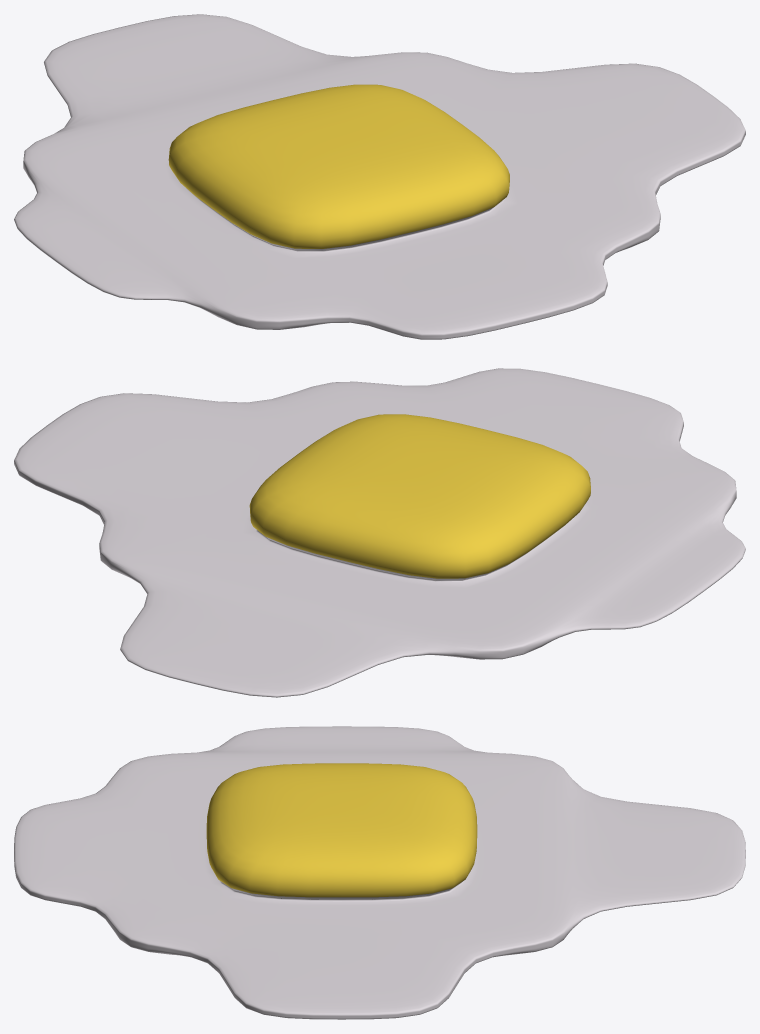
The model's file is EggBase.glb.
The picture shows the model from 3 angles, top to bottom: view 1: azimuth 30°, elevation 25°; view 2: azimuth 150°, elevation 25°; view 3: azimuth 270°, elevation 25°; orthographic projection. The views are drawn at different scales.
Visible parts, largest first — view 1: Egg; view 2: Egg; view 3: Egg.
Boxes of the visible parts, x1,y1,x2,y2 form: Egg: [14, 14, 745, 339]; Egg: [14, 368, 745, 697]; Egg: [14, 726, 745, 1019].
Size of the model in its own units: 2.52 by 0.2284 by 2.68.
